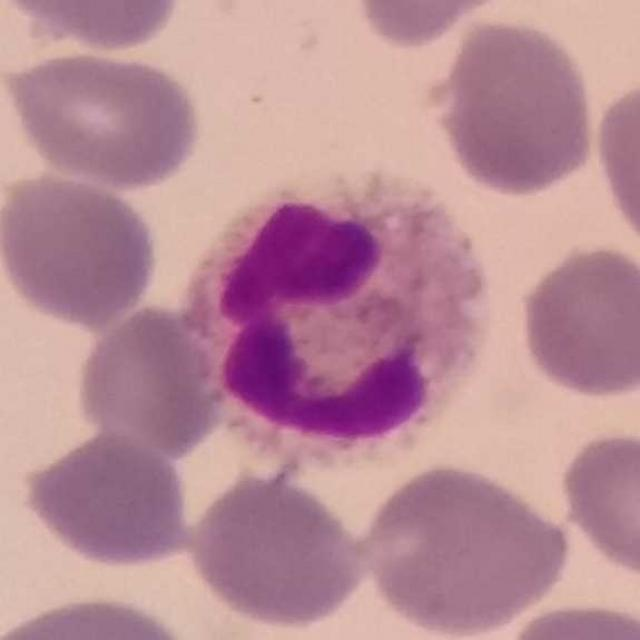Neutrophil: (191, 170, 504, 470)
RBC: (356, 458, 576, 639), (427, 12, 598, 200), (184, 465, 372, 632), (1, 44, 207, 194), (0, 168, 164, 331), (18, 429, 196, 572), (71, 302, 227, 455), (514, 240, 640, 403), (554, 424, 640, 587), (3, 0, 187, 56), (1, 589, 200, 640), (590, 72, 640, 264), (348, 0, 520, 50), (496, 597, 639, 640)
